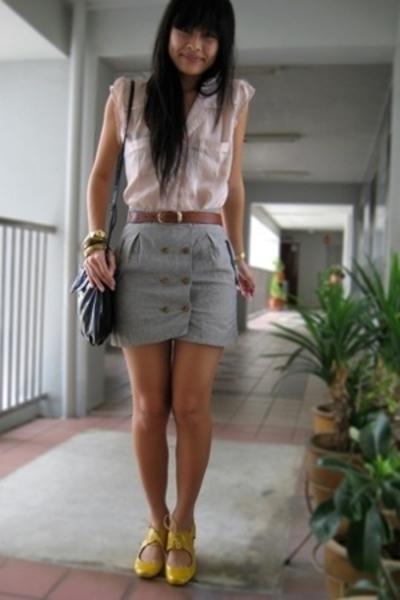bag: (67, 269, 122, 344)
shirt: (104, 78, 254, 218)
shoe: (139, 521, 203, 584)
skirt: (88, 204, 253, 356)
